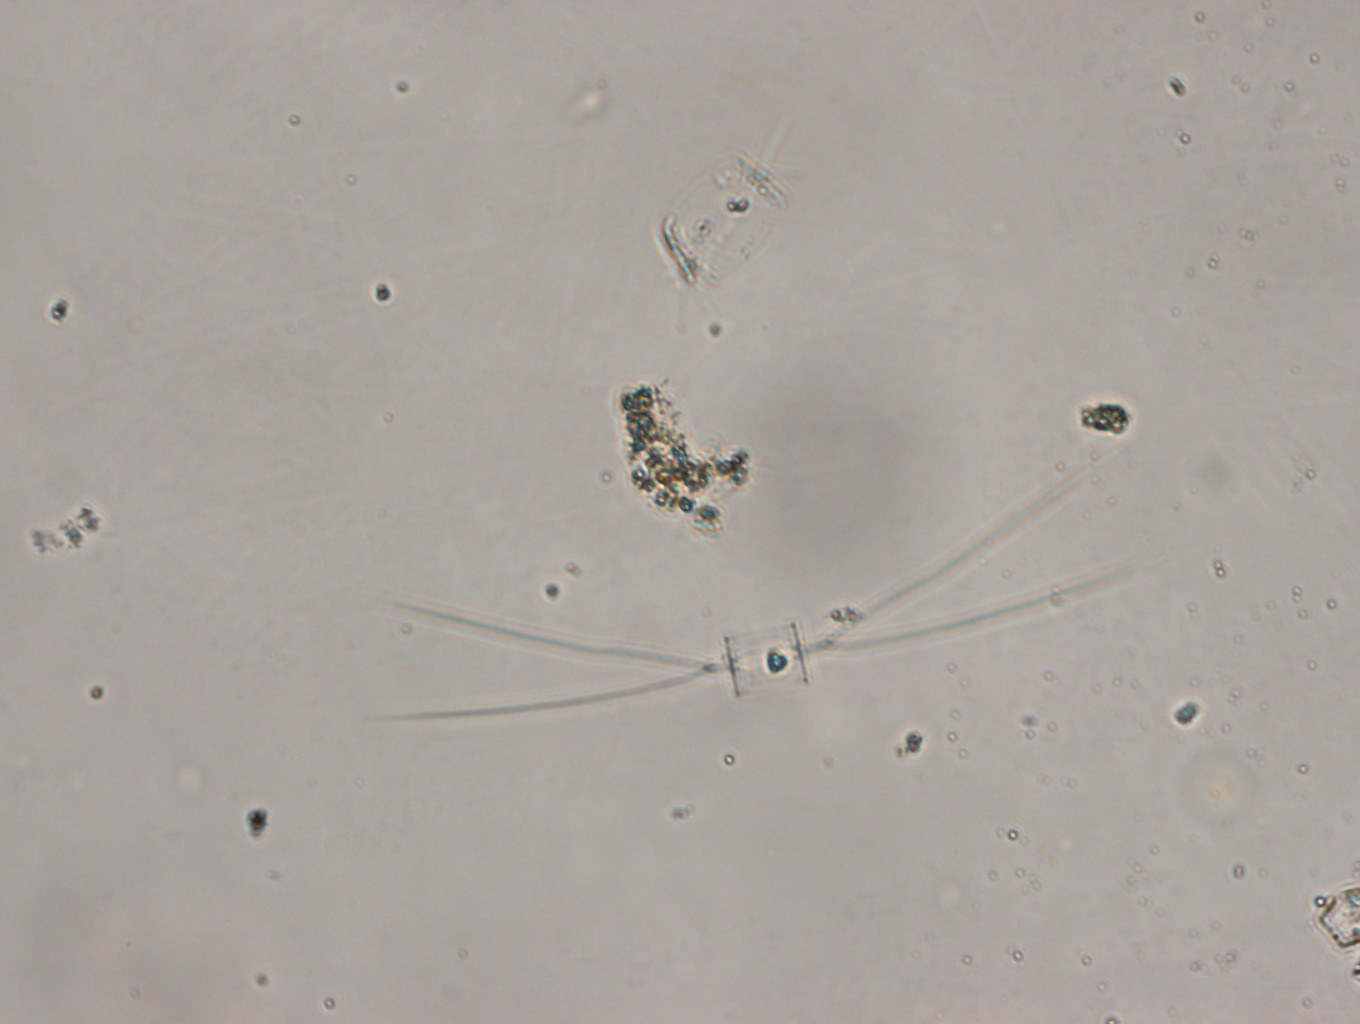chaetoceros: (382, 459, 1129, 723)
